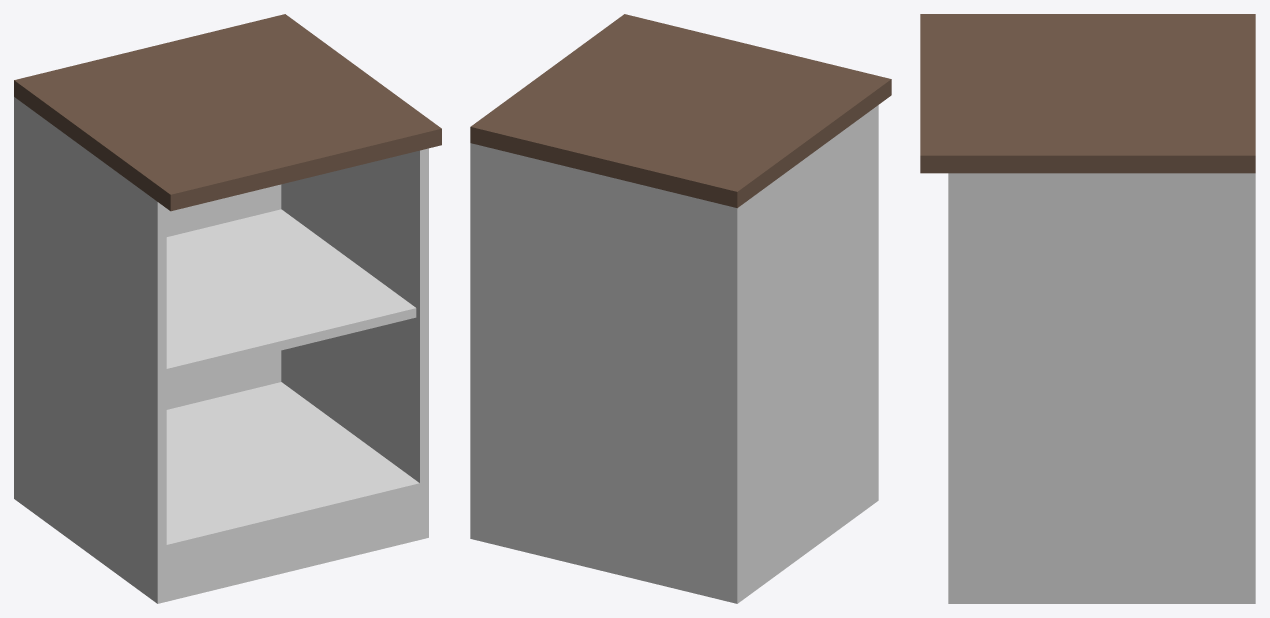
File: Kitchen1_C1_02.fbx
3 views of the same model, side by side, from view 1: azimuth 30°, elevation 25°; view 2: azimuth 150°, elevation 25°; view 3: azimuth 270°, elevation 25° (orthographic). The views are drawn at different scales.
Visible parts, largest first — view 1: Kitchen1_C1_02; view 2: Kitchen1_C1_02; view 3: Kitchen1_C1_02.
Part boxes in pixels (box(x1,y1,x2,y2)): Kitchen1_C1_02: box(14, 14, 441, 603); Kitchen1_C1_02: box(470, 14, 891, 603); Kitchen1_C1_02: box(920, 14, 1255, 603).
Bounding box in the file's own units: 60 × 88.5 × 60.
